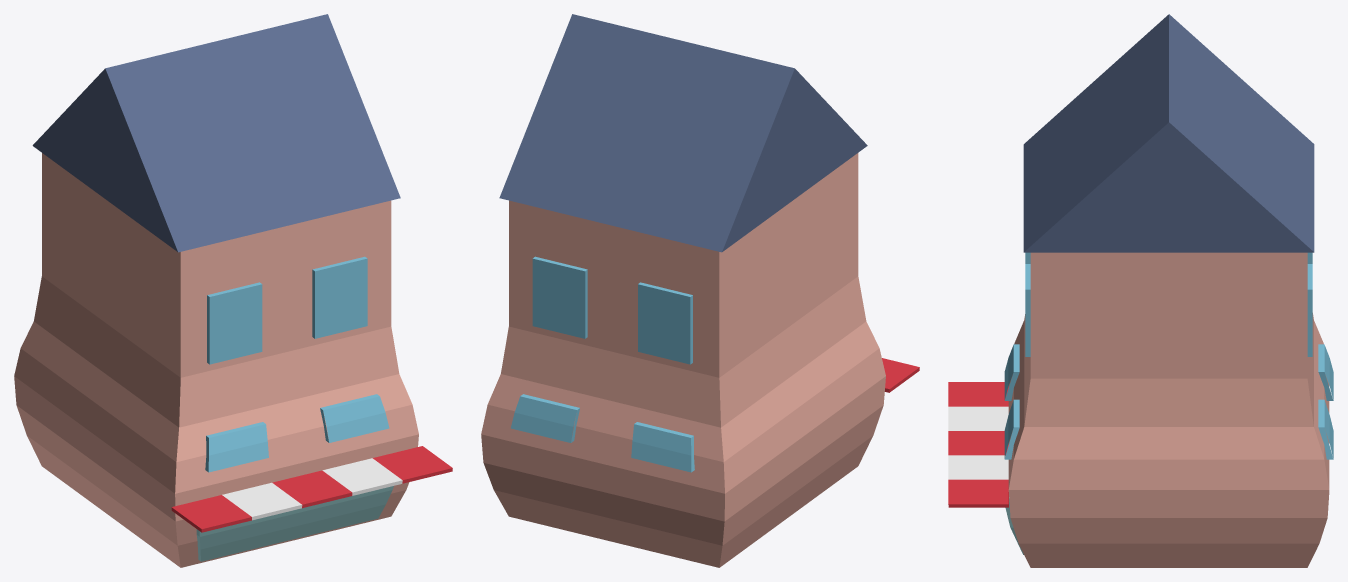
Rendered from shop_3.glb.
3 views of the same model, side by side, from view 1: azimuth 30°, elevation 25°; view 2: azimuth 150°, elevation 25°; view 3: azimuth 270°, elevation 25° (orthographic).
Parts seen in each view (by area): view 1: shop_3_wall_pink, shop_3_roof_slate, shop_3_window, shop_3_glass, shop_3_red, shop_3_white; view 2: shop_3_wall_pink, shop_3_roof_slate, shop_3_window, shop_3_red; view 3: shop_3_wall_pink, shop_3_roof_slate, shop_3_red, shop_3_window, shop_3_white.
Boxes of the visible parts, box(x1,y1,x2,y2) form: shop_3_wall_pink: box(14, 153, 418, 567); shop_3_roof_slate: box(32, 14, 400, 252); shop_3_window: box(205, 256, 389, 472); shop_3_glass: box(196, 486, 393, 561); shop_3_red: box(171, 446, 452, 532); shop_3_white: box(222, 458, 402, 520); shop_3_wall_pink: box(481, 153, 885, 567); shop_3_roof_slate: box(499, 14, 867, 252); shop_3_window: box(511, 256, 694, 472); shop_3_red: box(882, 358, 919, 392); shop_3_wall_pink: box(1008, 252, 1329, 567); shop_3_roof_slate: box(1023, 14, 1314, 252); shop_3_red: box(948, 382, 1008, 507); shop_3_window: box(1004, 252, 1333, 459); shop_3_white: box(948, 406, 1008, 479).
Bounding box in the file's own units: 8.68 × 14.88 × 11.57.
